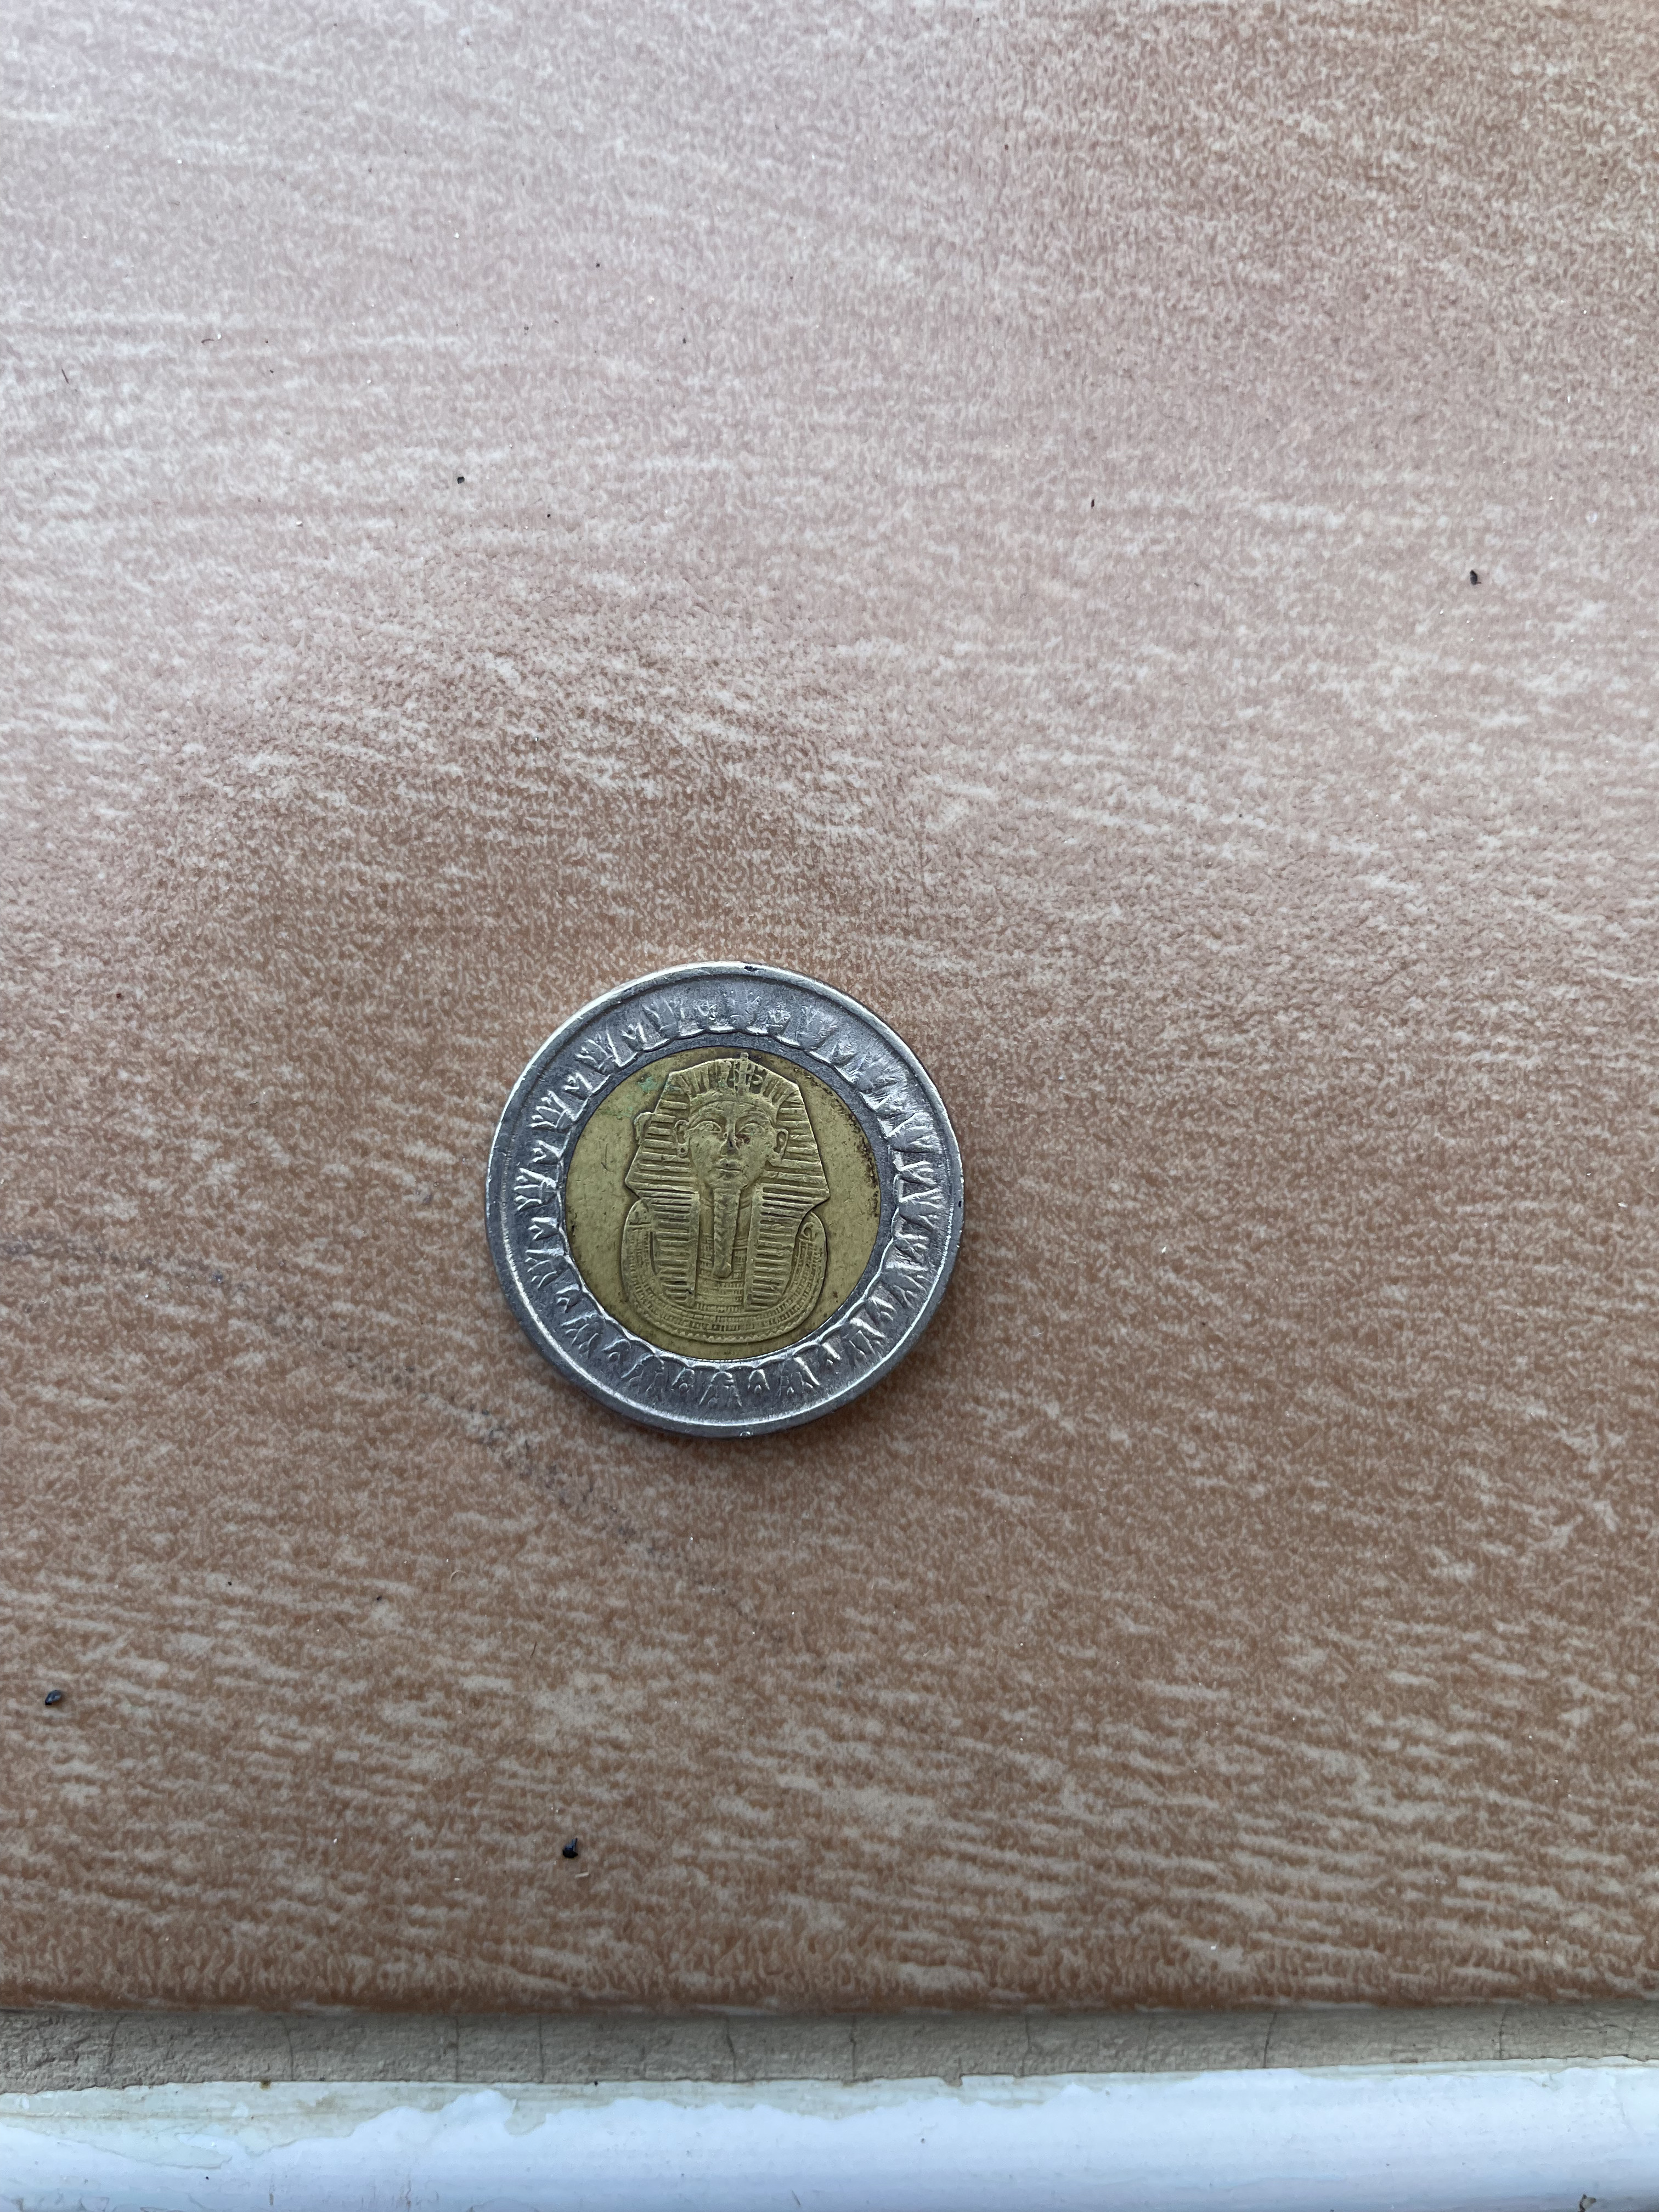one: (472, 951, 985, 1449)
